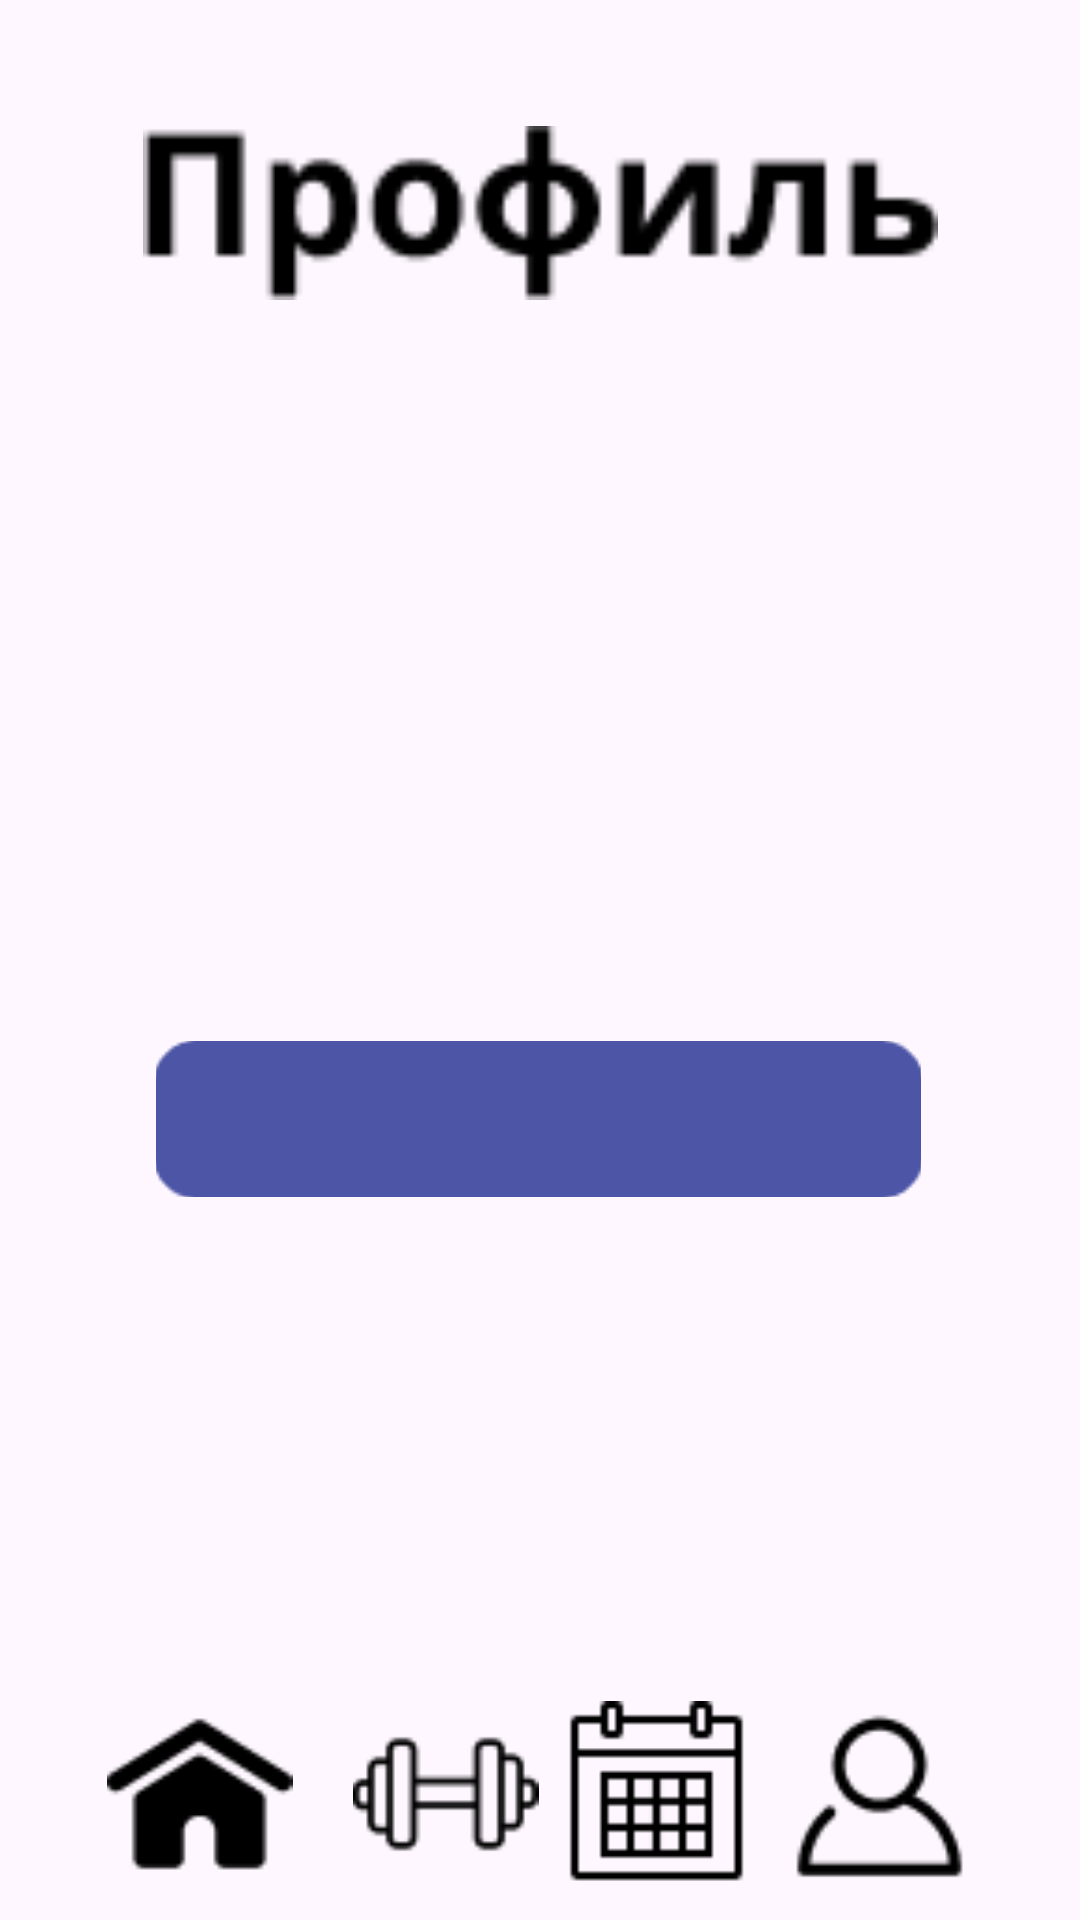

Where to tap for icons on this 1080w x 1920h app screen, as (x=x, y=y):
home: (x=200, y=1794)
profile: (x=879, y=1796)
schedule: (x=656, y=1791)
trener: (x=446, y=1794)
